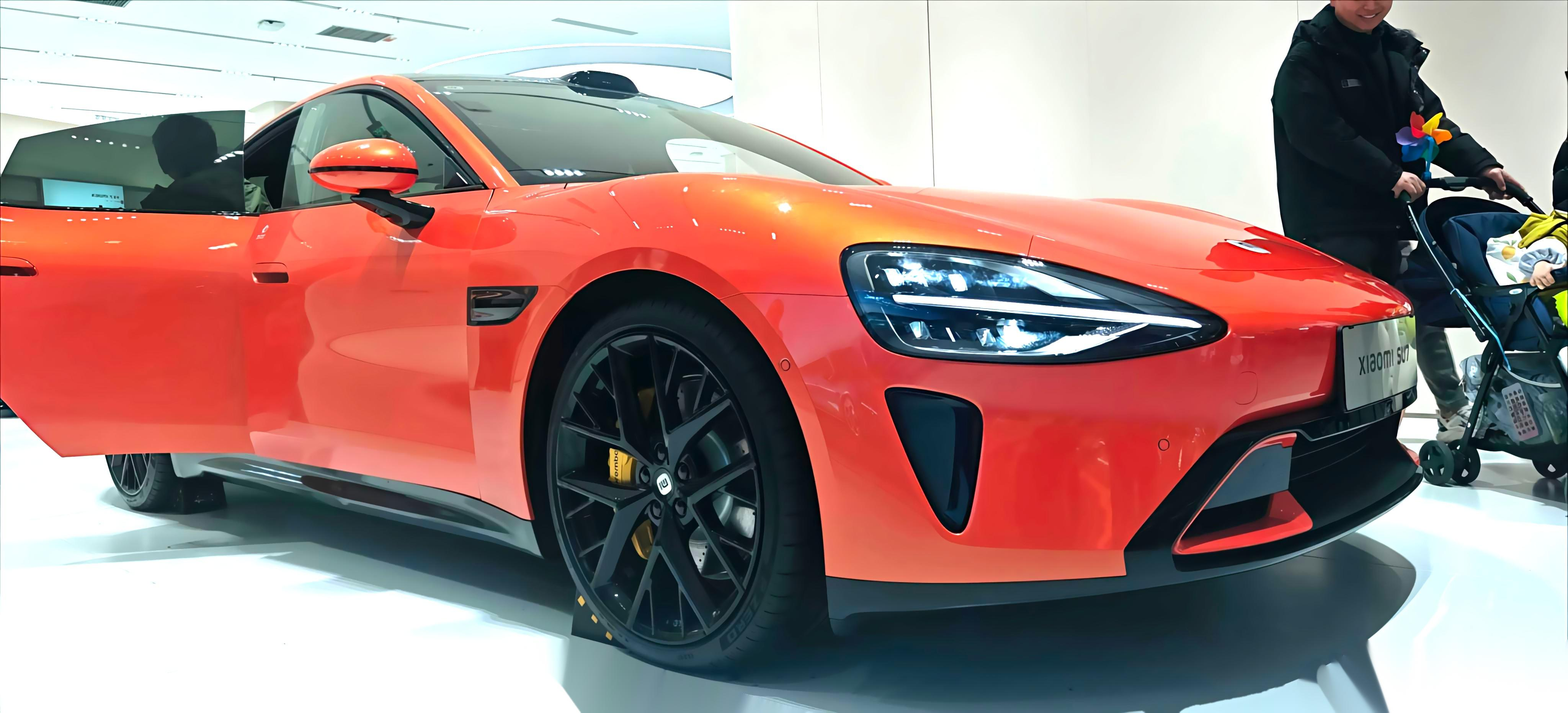su7: (4, 65, 1424, 677)
